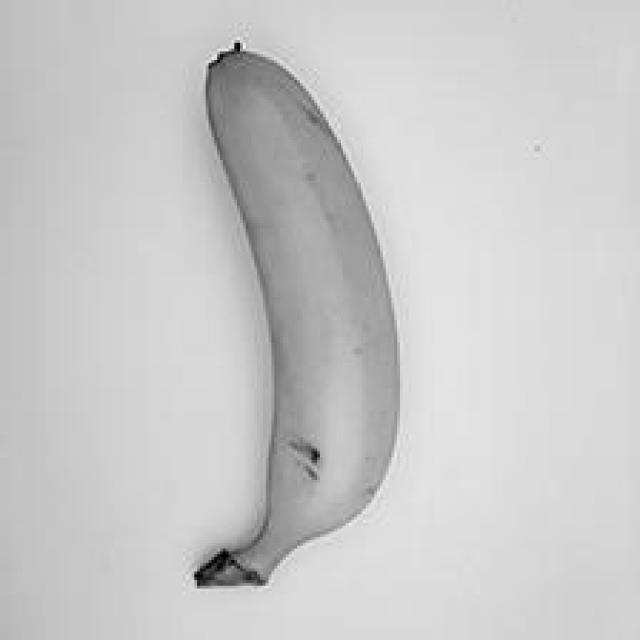Unripe: (106, 21, 437, 624)
